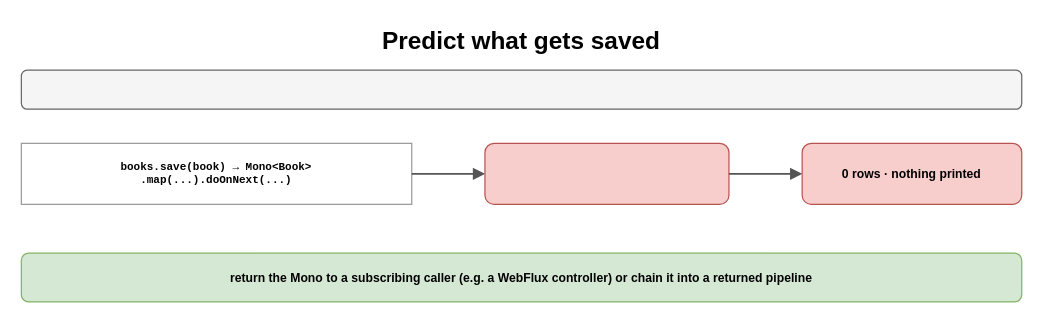
The diagram is 1043 pixels wide and 323 high, and some of its shapes have lost their labels. Here are the shapes that lost their labels. From the top down, the box of each, then its label:
(20, 69, 1022, 109): Nothing subscribes, so the recipe never runs
(484, 142, 729, 204): no subscriber
